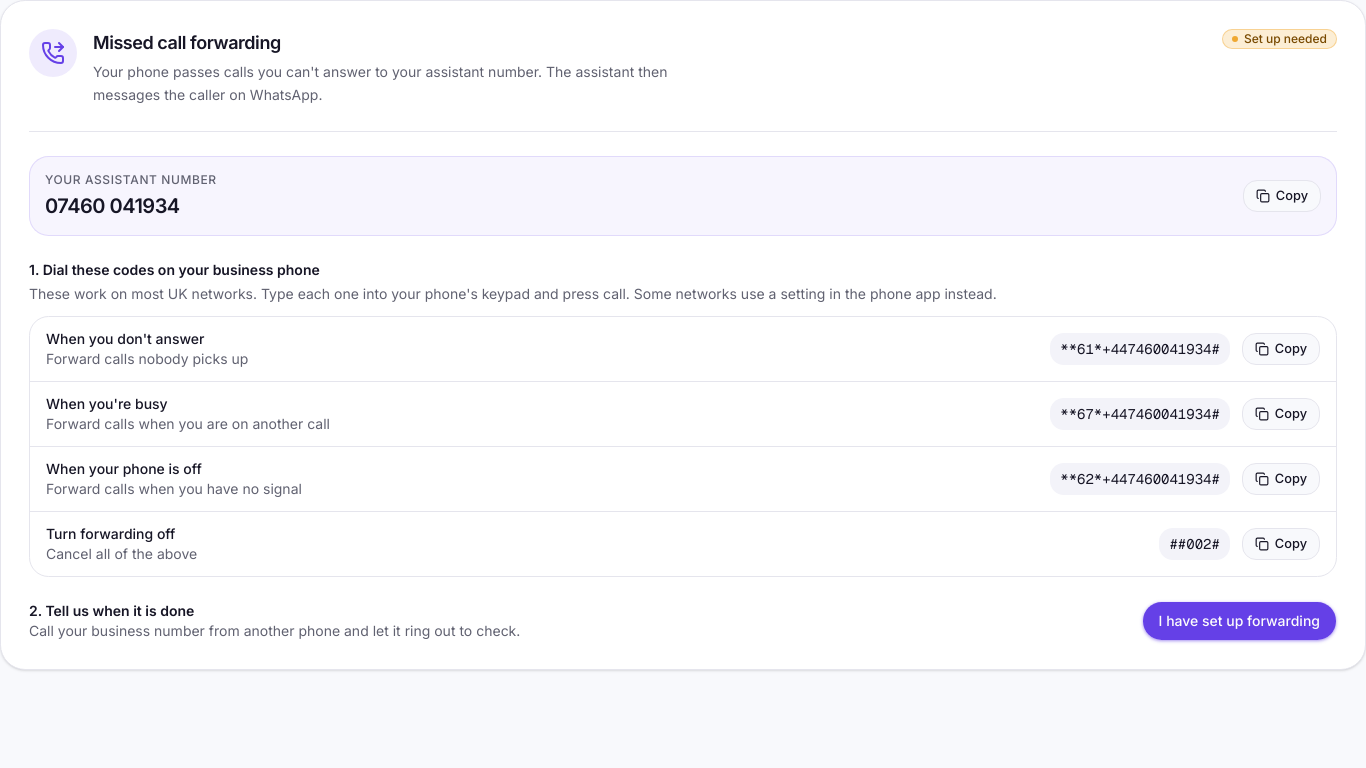
Test: ForwardingCard › confirms forwarding and switches to the connected state
The image size is (1366, 768).
Click the button "I have set up forwarding" at (1239, 620), box top-left (1142, 600), bottom-right (1337, 640)
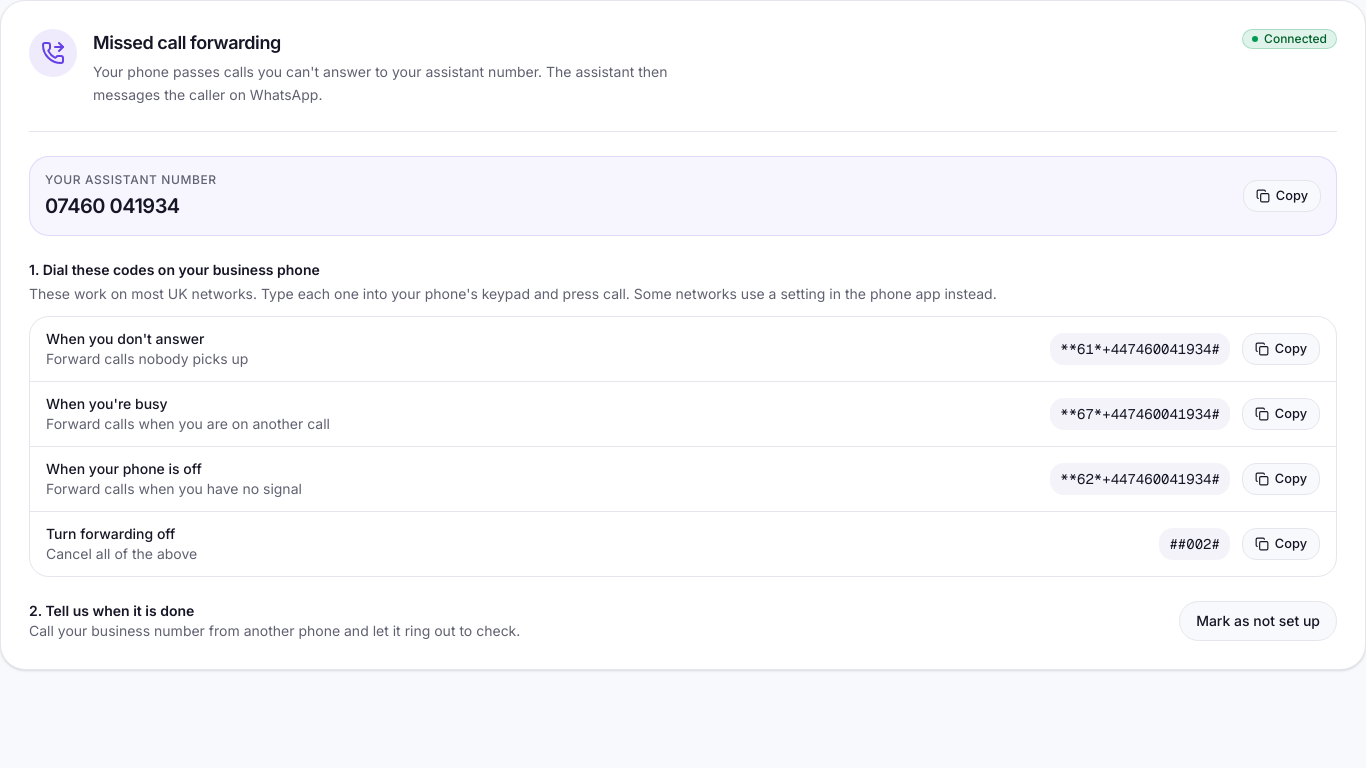
expect the text "Connected" is shown: met, box top-left (1242, 29), bottom-right (1337, 49)
expect the button "Mark as not set up" is shown: met, box top-left (1179, 600), bottom-right (1337, 640)
